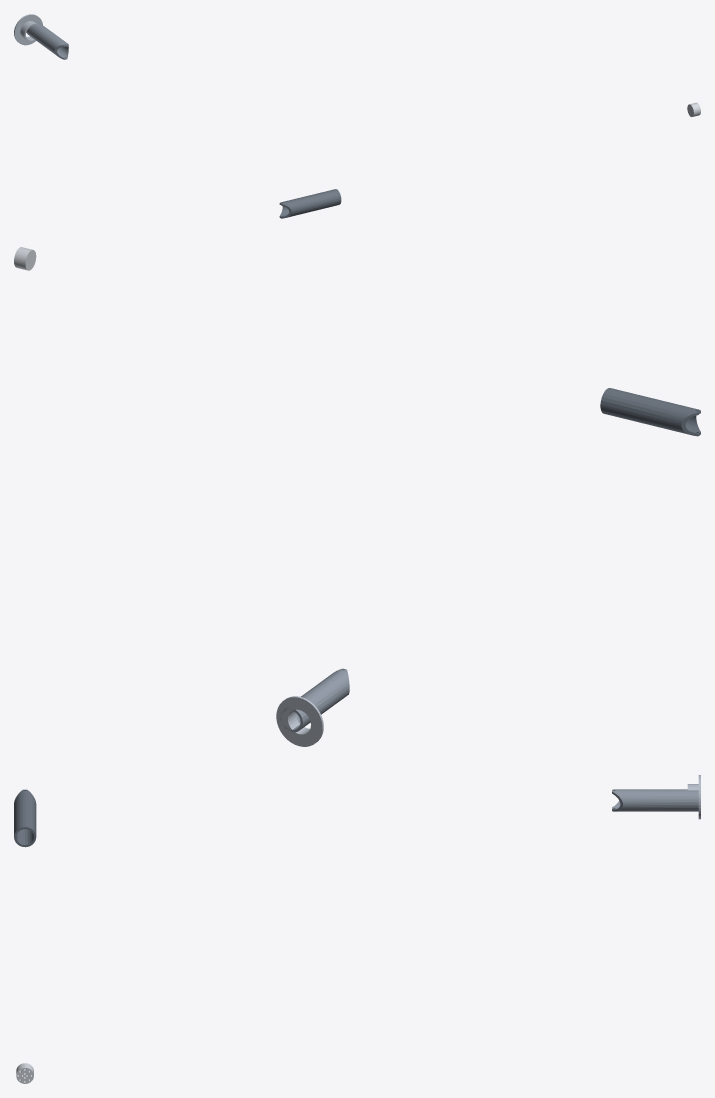
The model's file is 3-dof-arm.glb.
3 renders of one model, top to bottom at view 1: azimuth 30°, elevation 25°; view 2: azimuth 150°, elevation 25°; view 3: azimuth 270°, elevation 25°, orthographic. The views are drawn at different scales.
Parts seen in each view (by area): view 1: 3_DOF_ARM_SEGMENT-2, 3_DOF_ARM_SEGMENT-1, 3_DOF_ARM_BASE; view 2: 3_DOF_ARM_SEGMENT-2, 3_DOF_ARM_BASE, 3_DOF_ARM_SEGMENT-1; view 3: 3_DOF_ARM_SEGMENT-1, 3_DOF_ARM_SEGMENT-2.
Part boxes in pixels (<box>): 3_DOF_ARM_SEGMENT-2: <box>279,189,341,218</box>; 3_DOF_ARM_SEGMENT-1: <box>26,21,68,59</box>; 3_DOF_ARM_BASE: <box>14,14,42,45</box>; 3_DOF_ARM_SEGMENT-2: <box>600,388,700,436</box>; 3_DOF_ARM_BASE: <box>276,696,323,746</box>; 3_DOF_ARM_SEGMENT-1: <box>280,668,349,732</box>; 3_DOF_ARM_SEGMENT-1: <box>612,789,698,811</box>; 3_DOF_ARM_SEGMENT-2: <box>14,789,36,847</box>.
Bounding box in the file's own units: 1.53 × 0.1 × 1.54.
